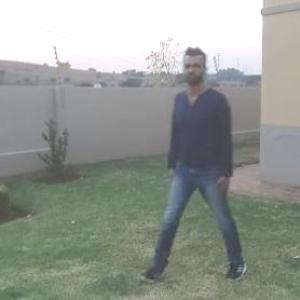follow: (172, 53, 236, 244)
